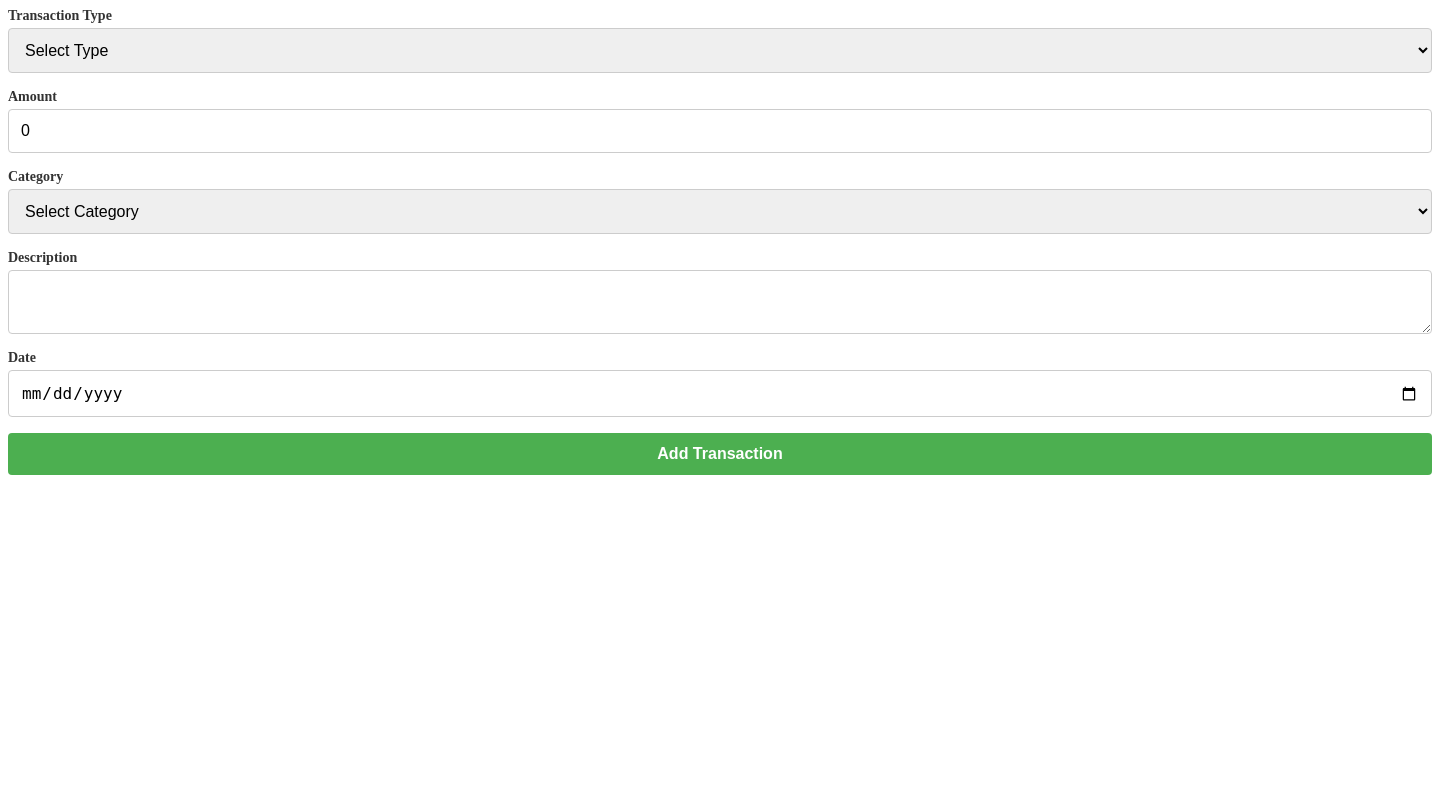
Test case: TransactionForm › should show validation errors for empty fields
Click the button "Add Transaction". click: (720, 454)
box: [8,433,1432,475]
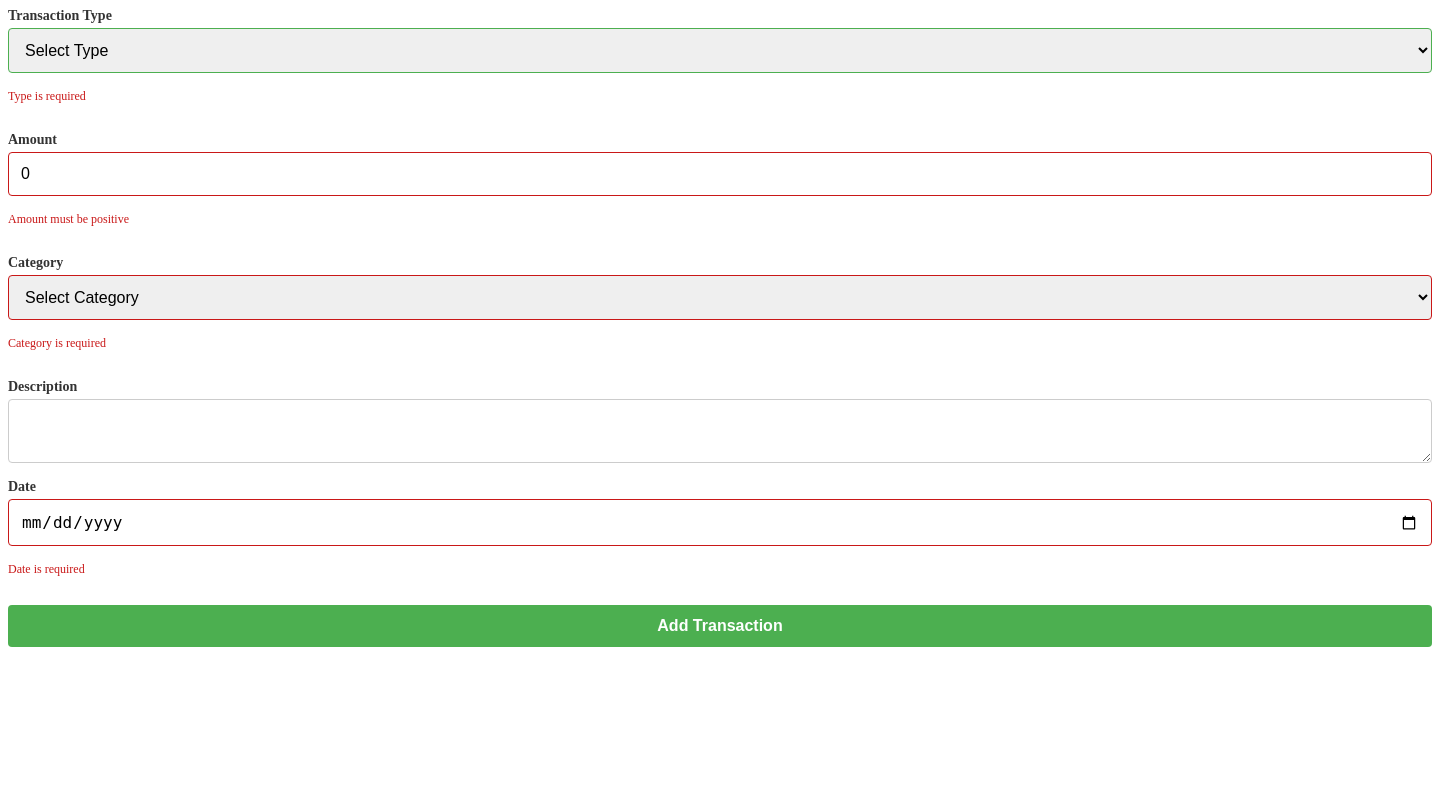
Expected: the text "Type is required" is shown, [8,89,86,103]
Expected: the text "Amount must be positive" is shown, [8,212,129,226]
Expected: the text "Category is required" is shown, [8,336,106,350]
